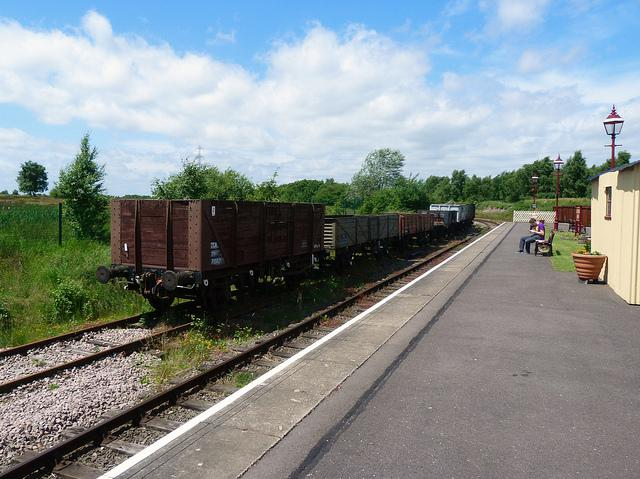Train: (94, 196, 478, 308)
